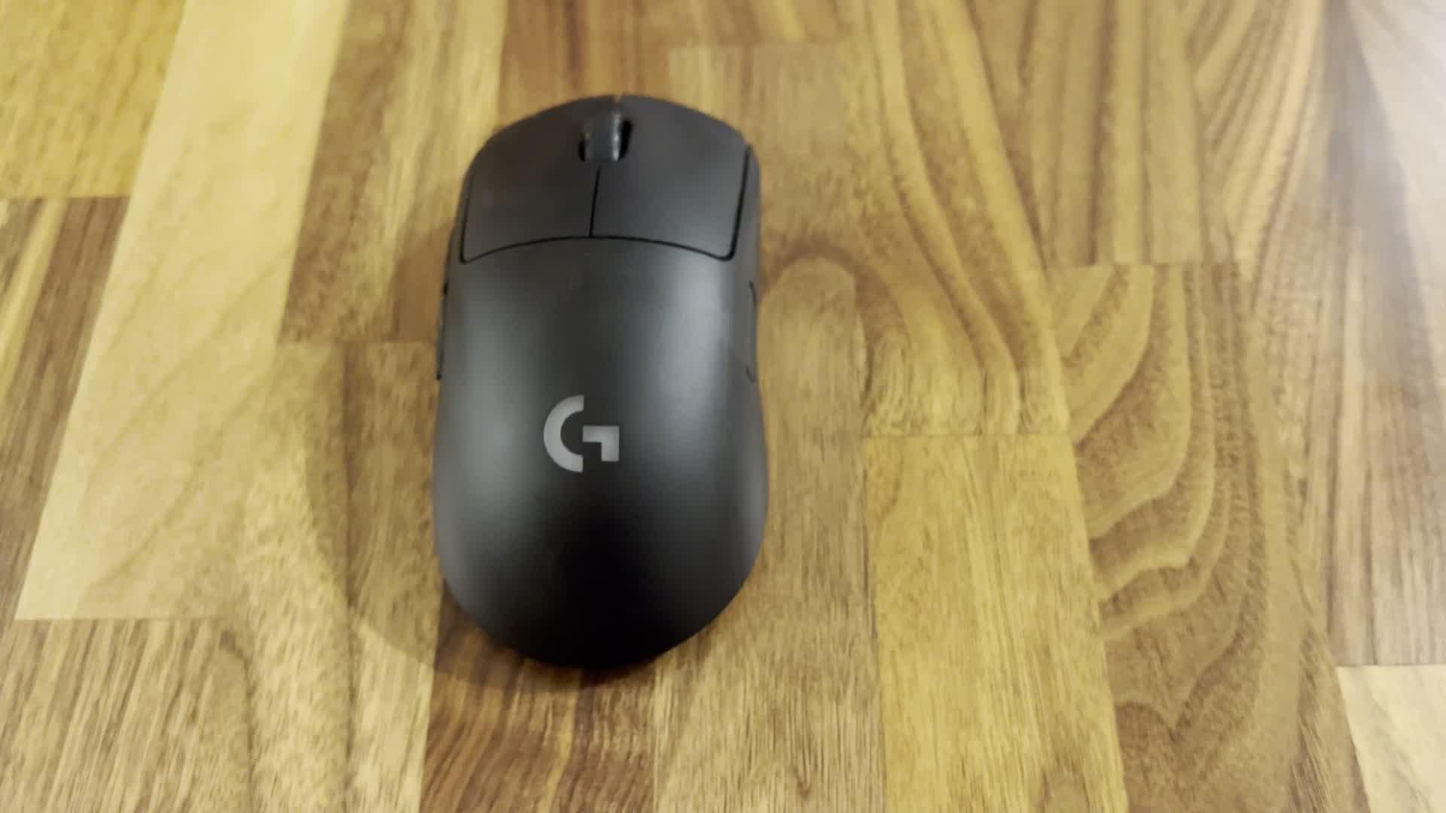logicool: (430, 89, 775, 673)
